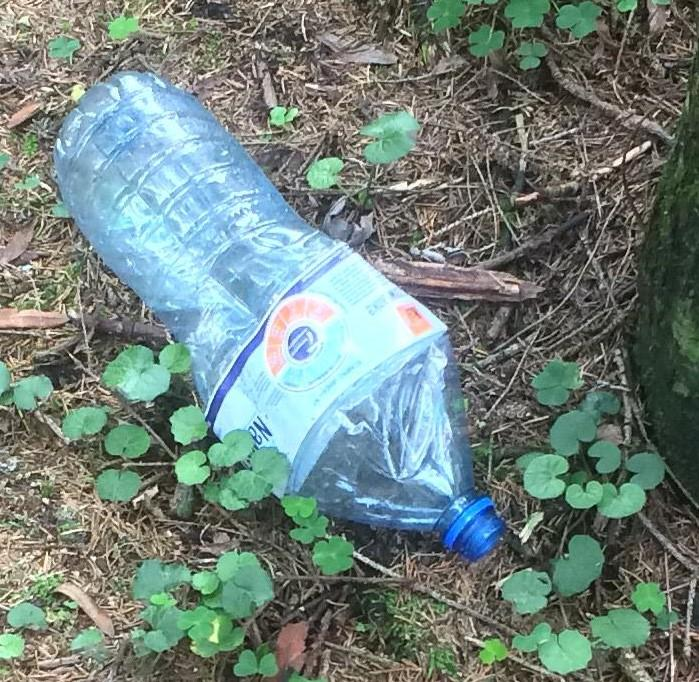Plastic: (40, 60, 520, 577)
